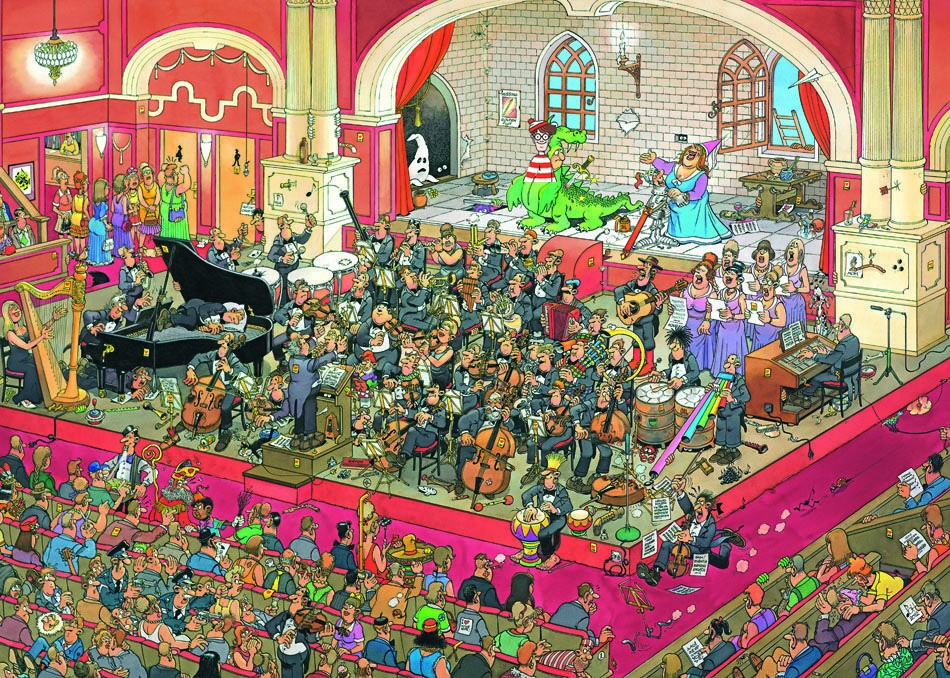waldo: (523, 118, 557, 182)
